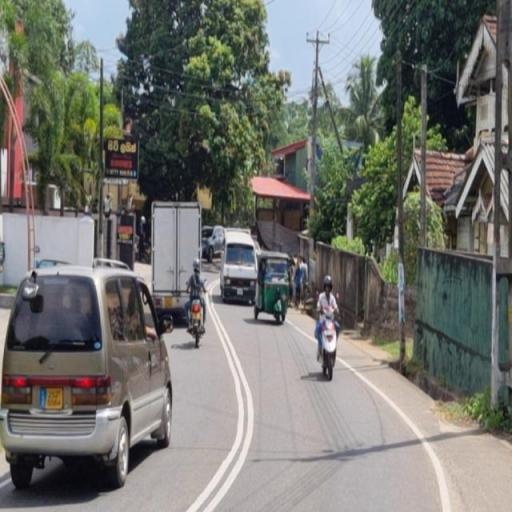double_white_line: (188, 290, 258, 510)
